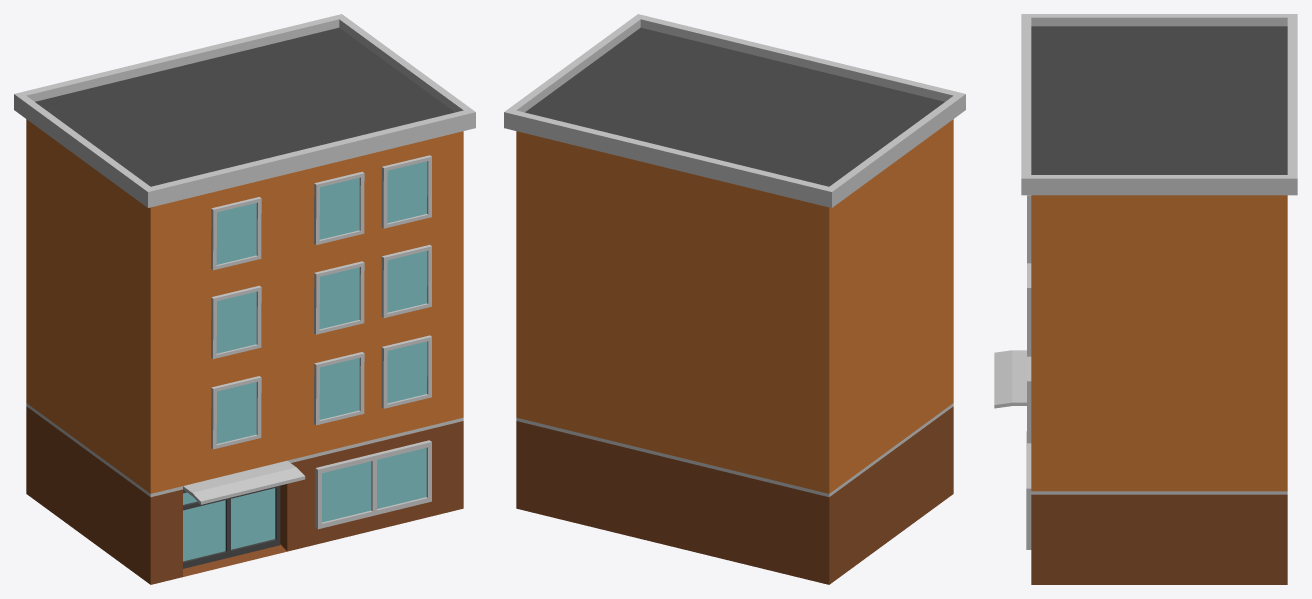
Rendered from apart5.fbx.
The picture shows the model from 3 angles, left to right: view 1: azimuth 30°, elevation 25°; view 2: azimuth 150°, elevation 25°; view 3: azimuth 270°, elevation 25°; orthographic projection. The views are drawn at different scales.
Parts seen in each view (by area): view 1: apart5; view 2: apart5; view 3: apart5.
Boxes of the visible parts, x1,y1,x2,y2 form: apart5: [14, 14, 475, 584]; apart5: [504, 14, 965, 584]; apart5: [994, 14, 1297, 584].
Size of the model in its own units: 817 by 948 by 635.
